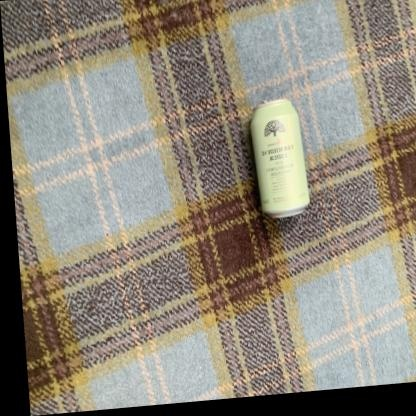trash: (251, 99, 308, 217)
